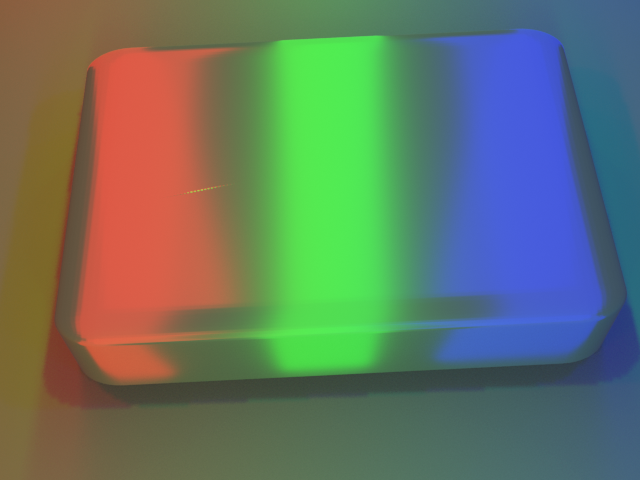scratch: (60, 118, 302, 256)
